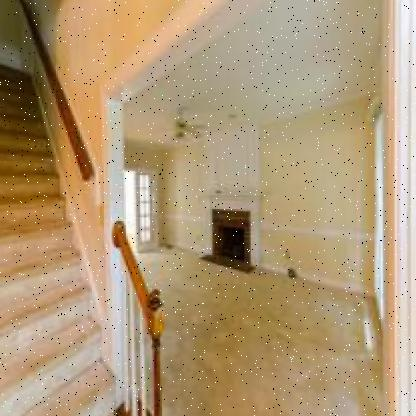stair_up: (0, 212, 114, 416)
